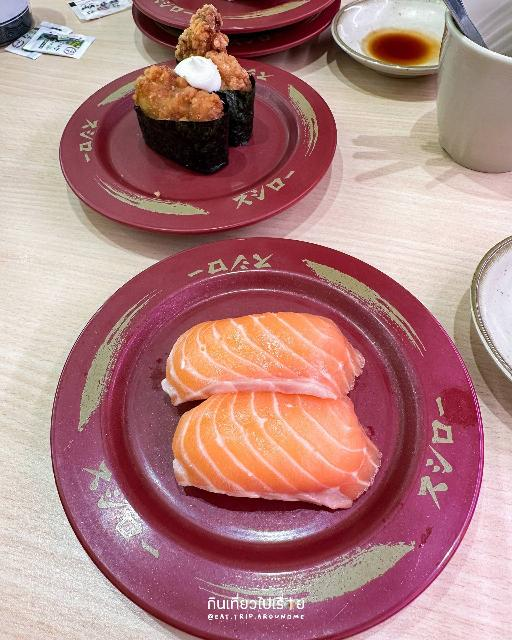janred: (43, 234, 494, 619), (40, 80, 337, 232), (133, 13, 329, 65), (161, 0, 334, 29)
